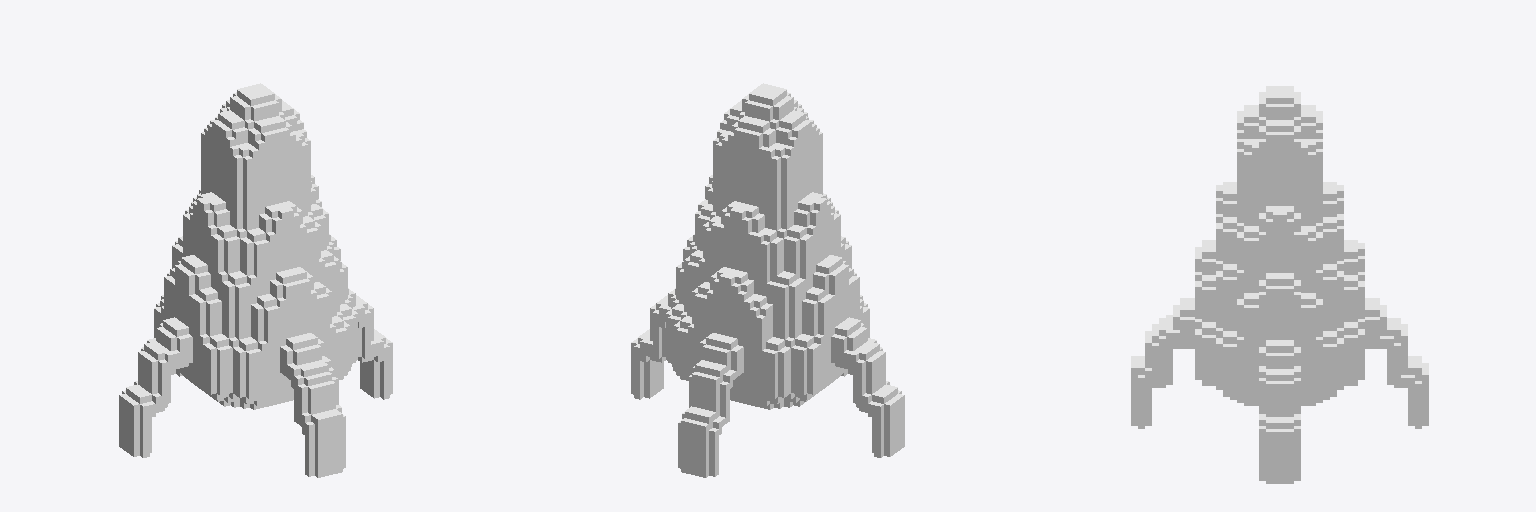
File: shatle.obj
3 renders of one model, left to right at view 1: azimuth 30°, elevation 25°; view 2: azimuth 150°, elevation 25°; view 3: azimuth 270°, elevation 25°, orthographic.
Parts seen in each view (by area): view 1: object 1; view 2: object 1; view 3: object 1.
Part boxes in pixels (x1,y1,x2,y2): object 1: (119,83,392,477); object 1: (631,83,904,477); object 1: (1131,86,1428,483).
Size of the model in its own units: 4.2 by 5.1 by 4.2.